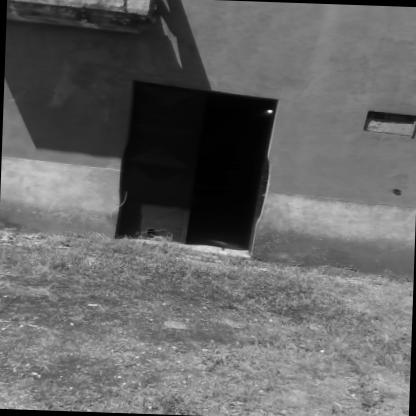open: (113, 72, 288, 256)
